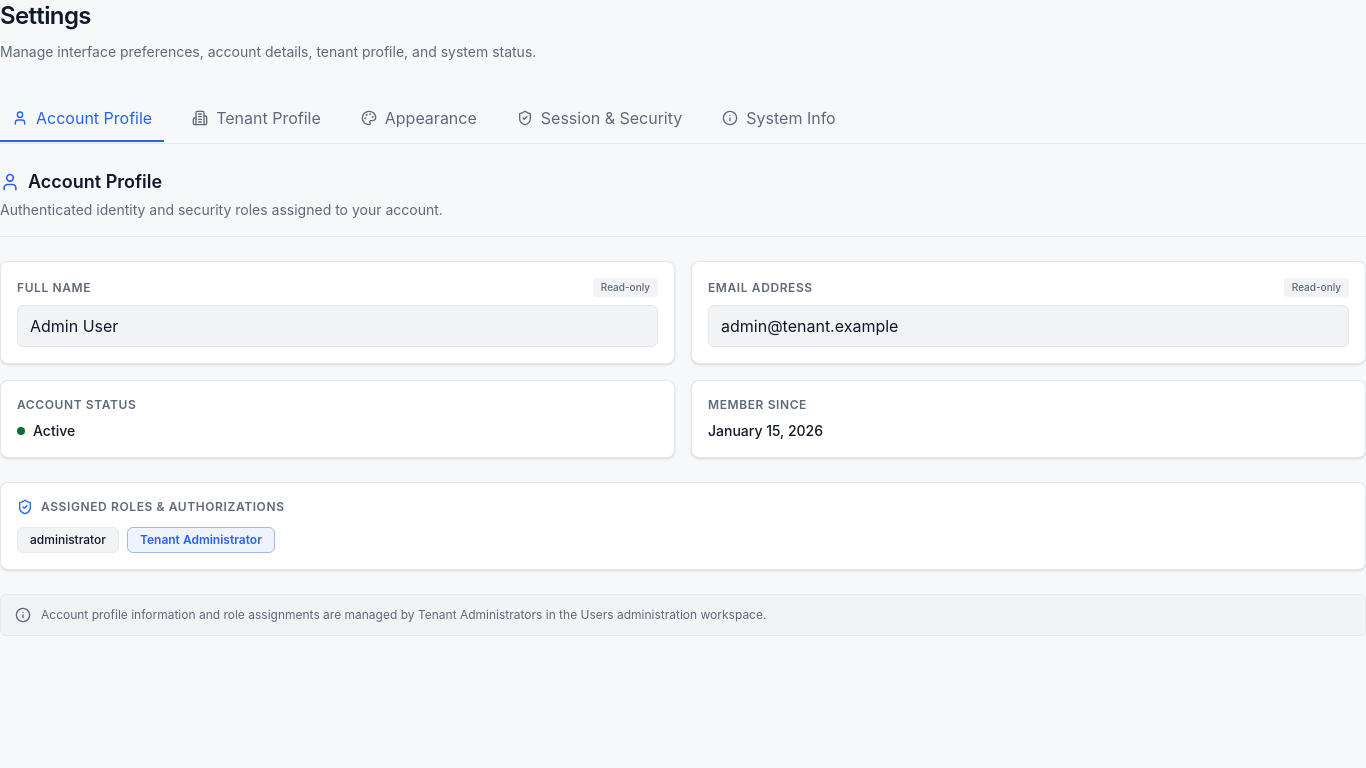
Test: SettingsWorkspace Component › session sign out opens confirmation modal dialog
Expected: the heading "Settings" is shown, x1=0 y1=1 x2=91 y2=30
Step 1. Click the tab "Session & Security" → [600, 119], box x1=505 y1=96 x2=694 y2=142
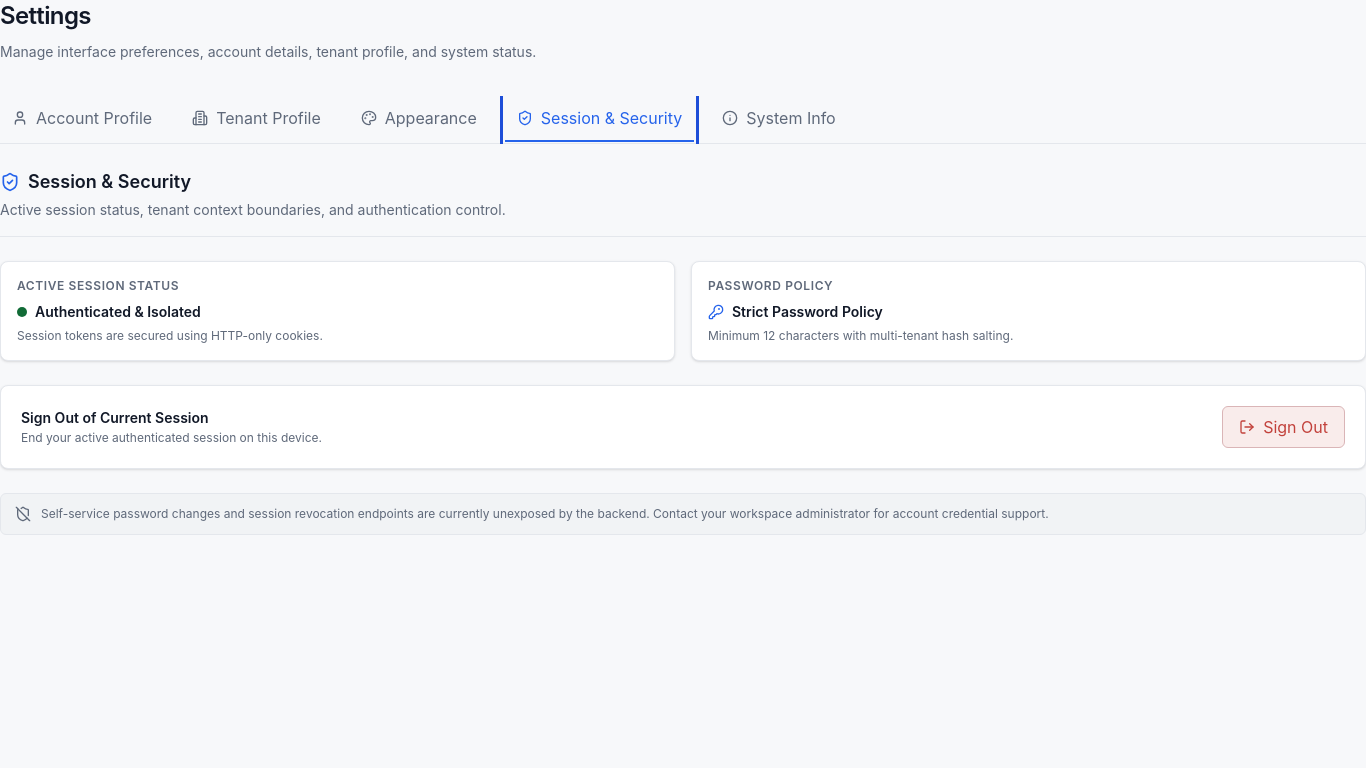
Step 2. Click the button "Sign Out" → [1284, 427], box x1=1222 y1=406 x2=1345 y2=448
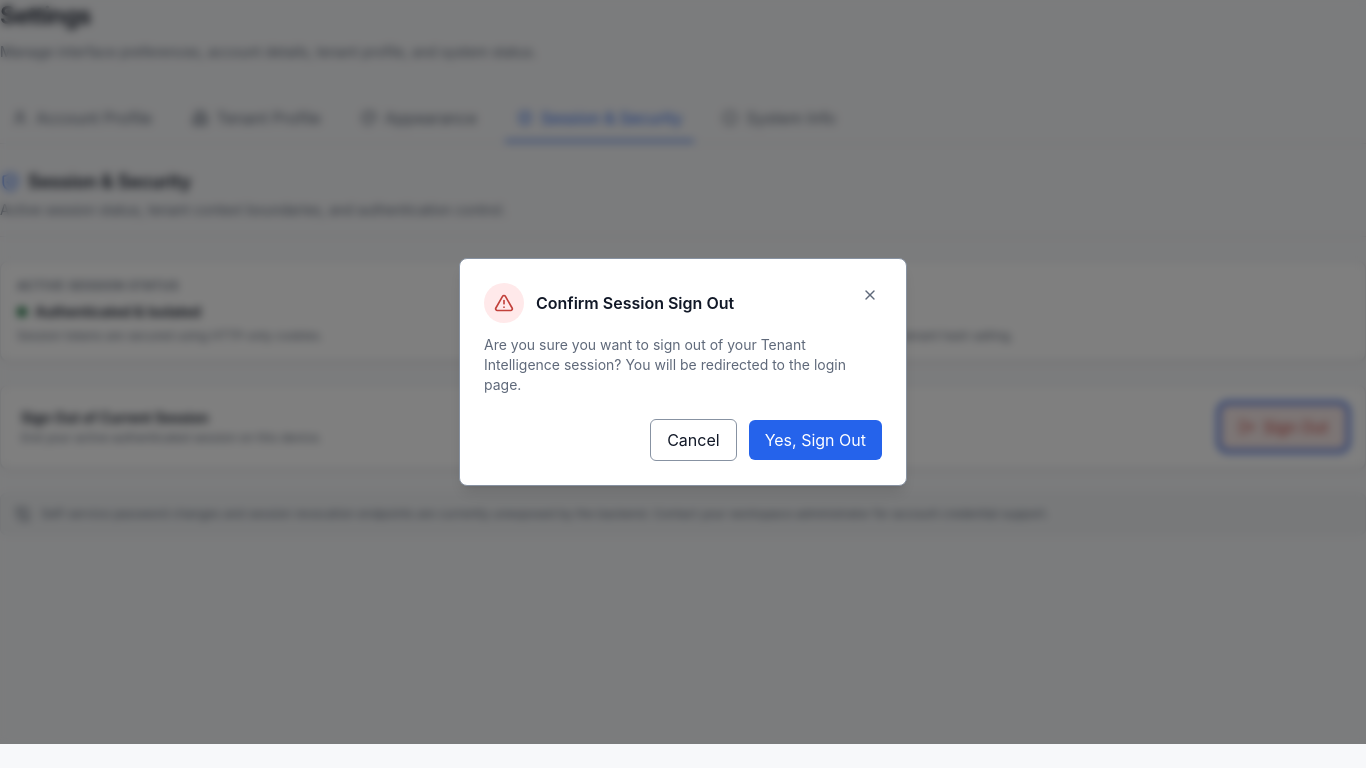
Result: the heading "Confirm Session Sign Out" is shown at x1=536 y1=291 x2=734 y2=315
Result: the text "Are you sure you want to sign out" is shown at x1=484 y1=336 x2=846 y2=393
